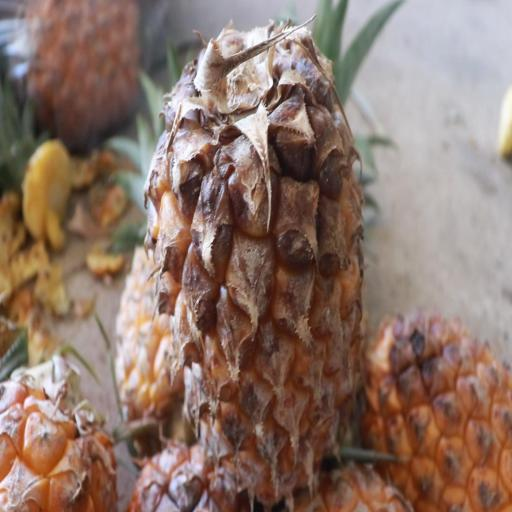Pineapple - v8 v1: (144, 11, 374, 512), (363, 308, 512, 512)
